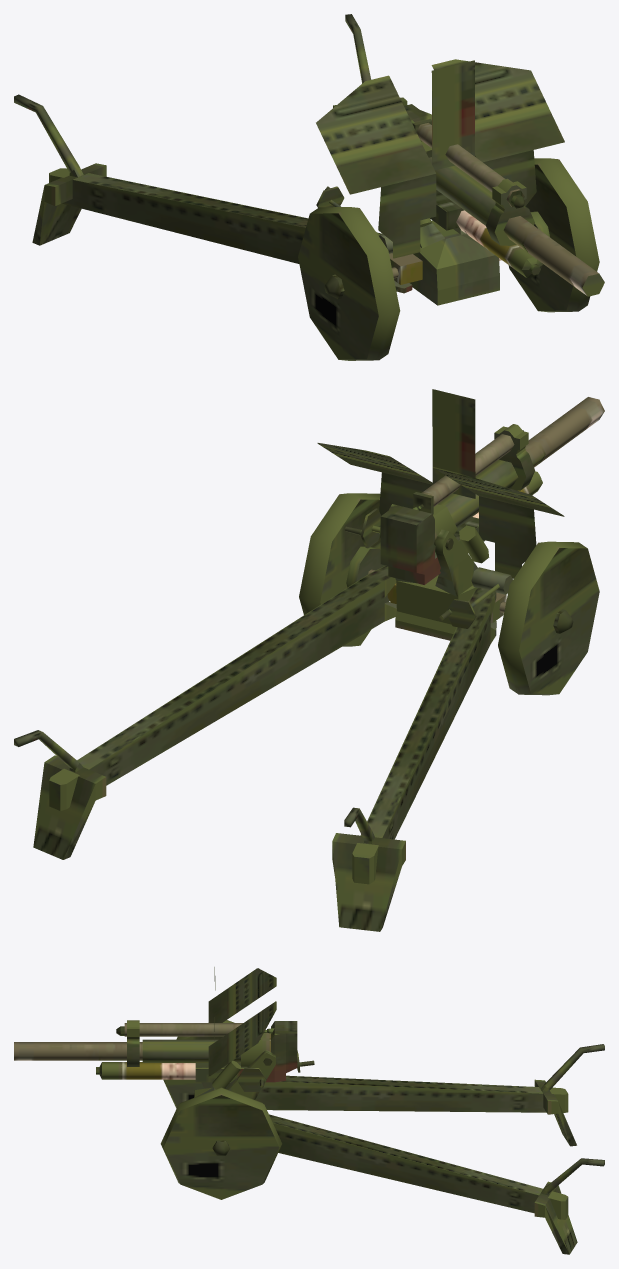
The model's file is RUSM30.dae.
3 renders of one model, top to bottom at view 1: azimuth 30°, elevation 25°; view 2: azimuth 150°, elevation 25°; view 3: azimuth 270°, elevation 25°, orthographic. The views are drawn at different scales.
Parts seen in each view (by area): view 1: carriage, wheels, sleeve, barrel; view 2: carriage, wheels, sleeve, barrel; view 3: carriage, wheels, sleeve, barrel.
Boxes of the visible parts, <box> form: carriage: <box>14,14,564,305</box>; wheels: <box>298,158,599,360</box>; sleeve: <box>404,60,542,278</box>; barrel: <box>503,216,604,296</box>; carriage: <box>14,443,564,931</box>; wheels: <box>299,493,599,695</box>; sleeve: <box>380,389,542,584</box>; barrel: <box>512,397,604,471</box>; carriage: <box>194,968,604,1254</box>; wheels: <box>160,1020,282,1199</box>; sleeve: <box>96,967,297,1082</box>; barrel: <box>14,1042,142,1060</box>.
Bounding box in the file's own units: 21.61 × 43.03 × 18.17.
